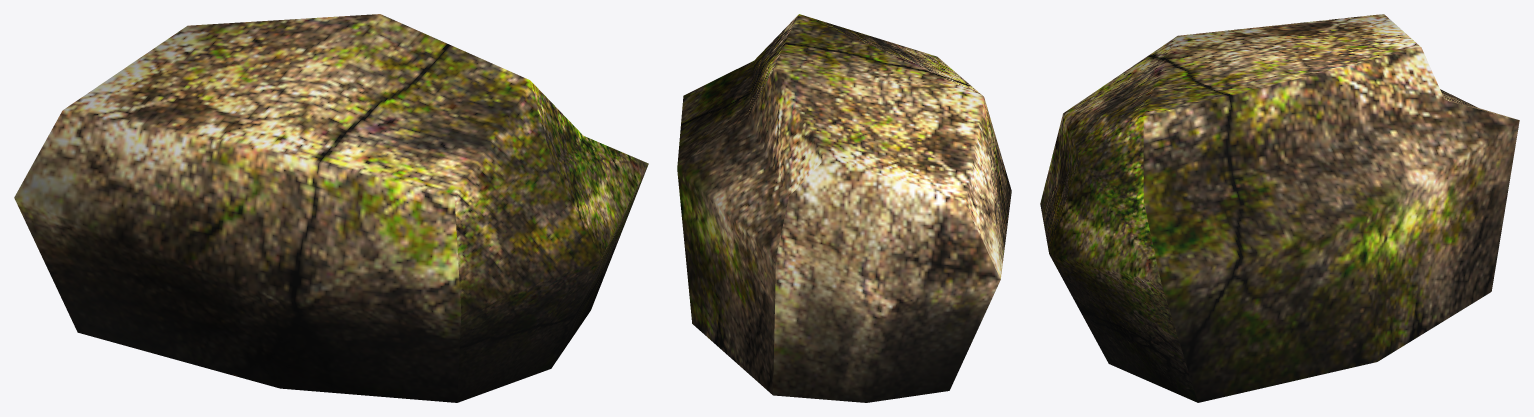
File: rock_013.obj
The picture shows the model from 3 angles, left to right: view 1: azimuth 30°, elevation 25°; view 2: azimuth 150°, elevation 25°; view 3: azimuth 270°, elevation 25°; orthographic projection. The views are drawn at different scales.
Parts seen in each view (by area): view 1: rock_013; view 2: rock_013; view 3: rock_013.
Boxes of the visible parts, x1=… form: rock_013: x1=14, y1=14, x2=648, y2=402; rock_013: x1=677, y1=14, x2=1011, y2=402; rock_013: x1=1040, y1=14, x2=1519, y2=402.
Bounding box in the file's own units: 245 × 134 × 224.
Materials: 1 (1 with a texture image).
